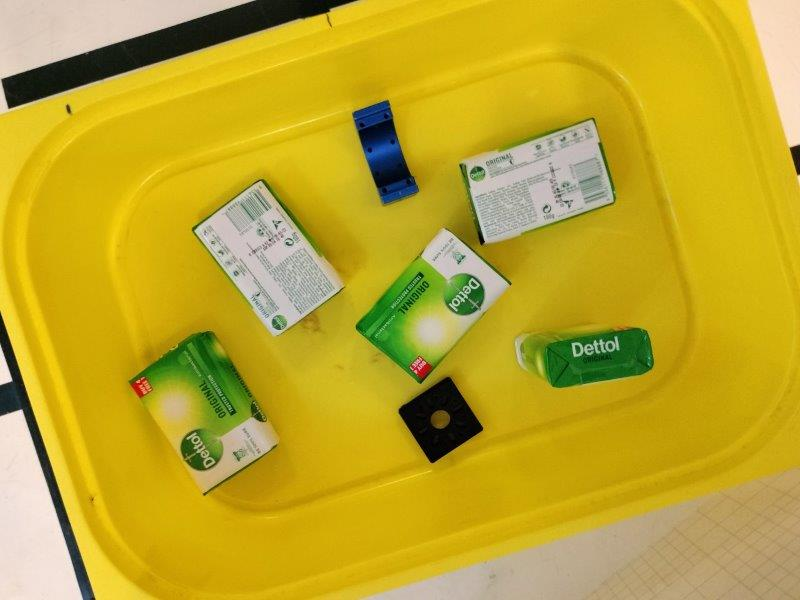Dettol: (356, 229, 513, 383), (129, 334, 279, 495), (192, 180, 344, 334), (460, 117, 617, 243), (513, 324, 656, 389)
